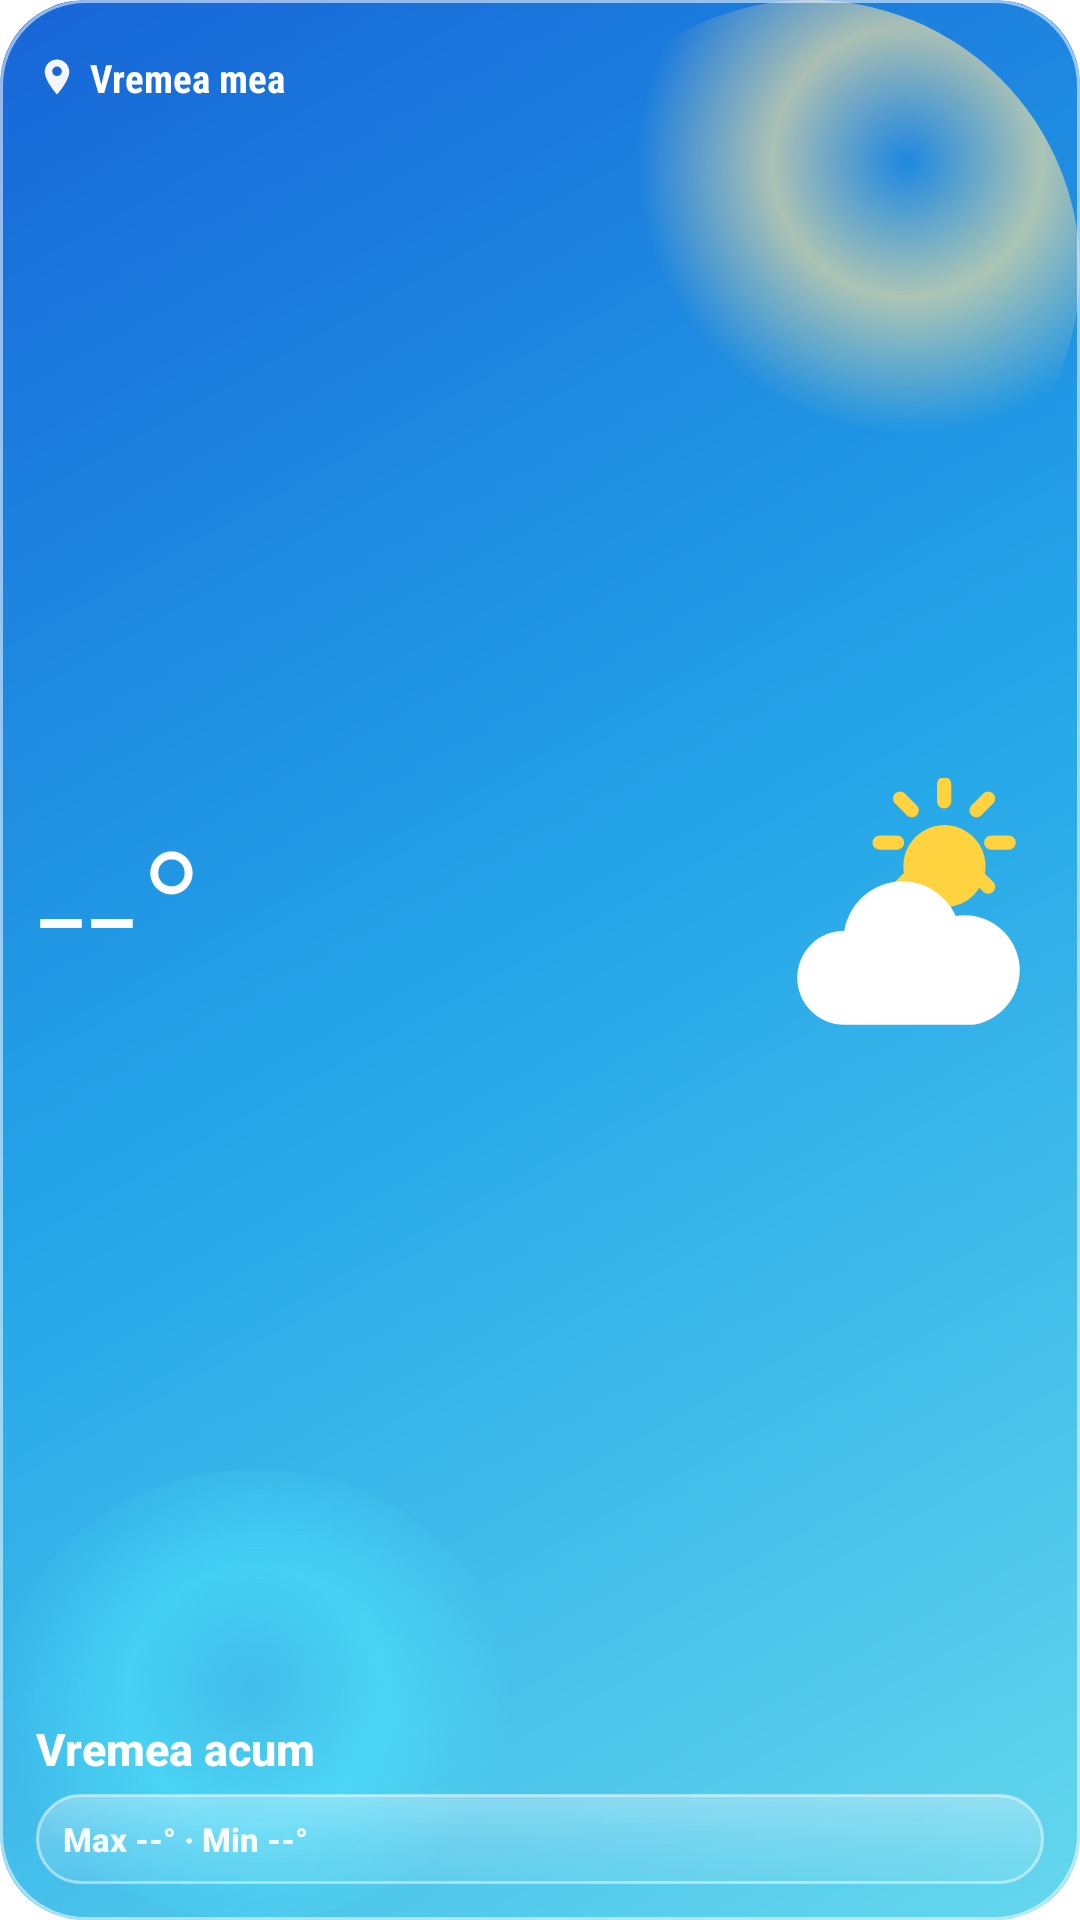

Locate icon controls on the screen. Image size 1080w x 1920h, boxes as (x1, y1, x2, y2).
Starea vremii: (797, 778, 1020, 1025)
